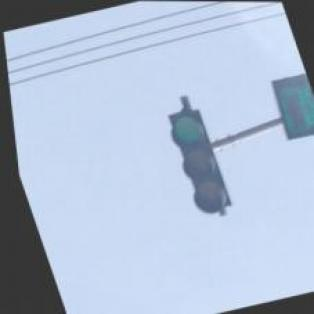Semaforo Verde: (158, 105, 230, 216)
